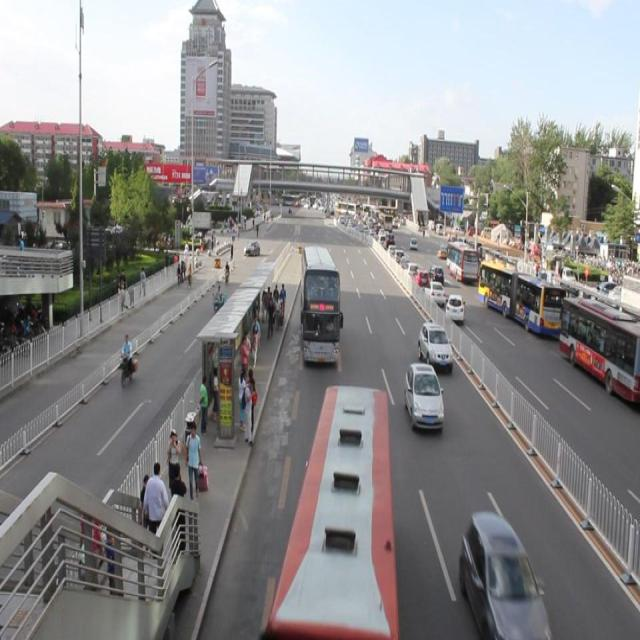car: (455, 511, 550, 640), (403, 363, 445, 433), (416, 320, 453, 370)
van: (261, 383, 398, 640), (298, 244, 344, 365)
